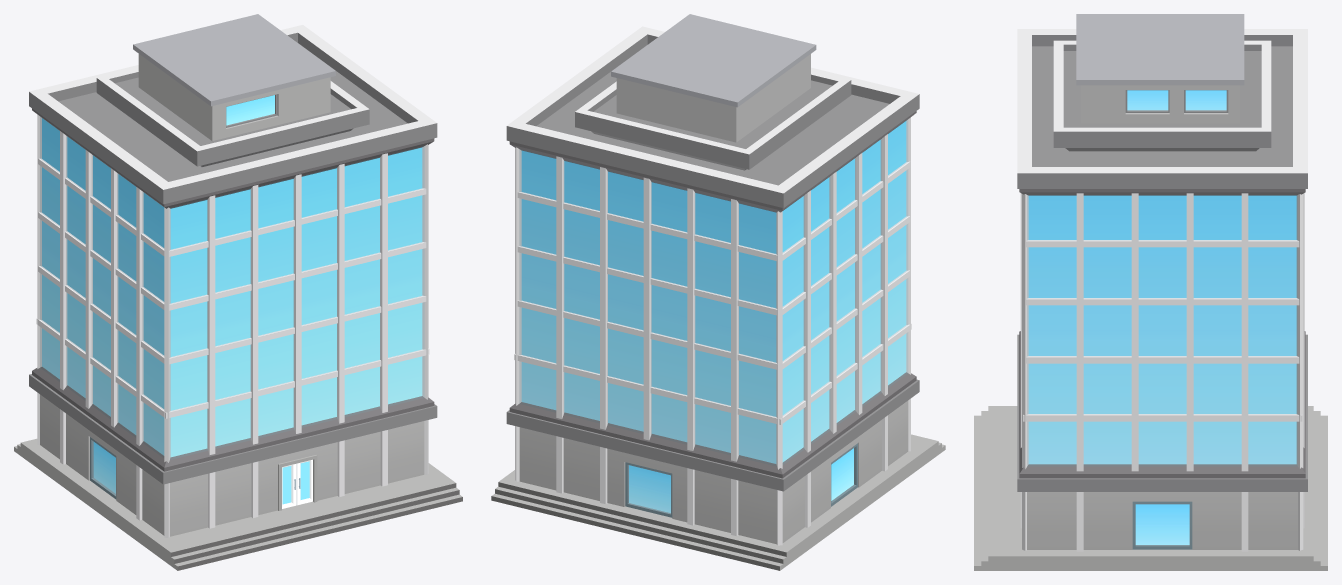
Rendered from city2-building-business-10.glb.
The picture shows the model from 3 angles, left to right: view 1: azimuth 30°, elevation 25°; view 2: azimuth 150°, elevation 25°; view 3: azimuth 270°, elevation 25°; orthographic projection. The views are drawn at different scales.
Visible parts, largest first — view 1: Building_Business_10; view 2: Building_Business_10; view 3: Building_Business_10.
Boxes of the visible parts, x1=… form: Building_Business_10: x1=14, y1=14, x2=462, y2=570; Building_Business_10: x1=491, y1=14, x2=945, y2=570; Building_Business_10: x1=974, y1=14, x2=1327, y2=570.
Size of the model in its own units: 14.88 by 20.7 by 14.78.
Materials: 2 (2 with a texture image).
